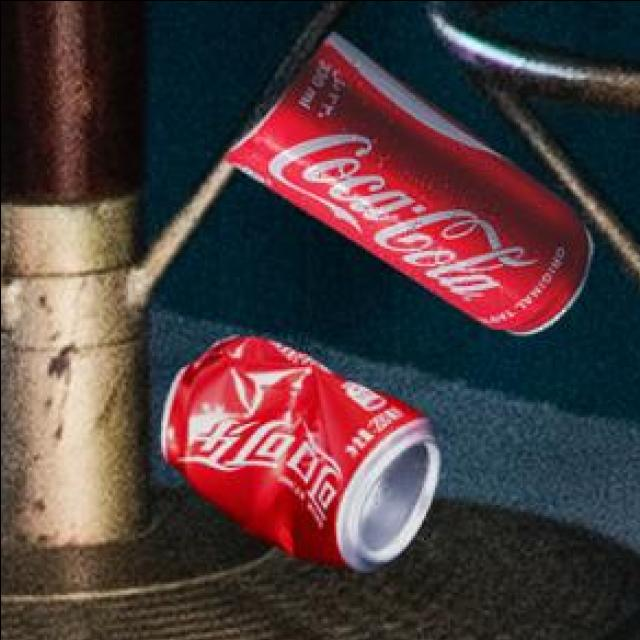logam: (222, 27, 588, 330), (157, 332, 437, 569)
